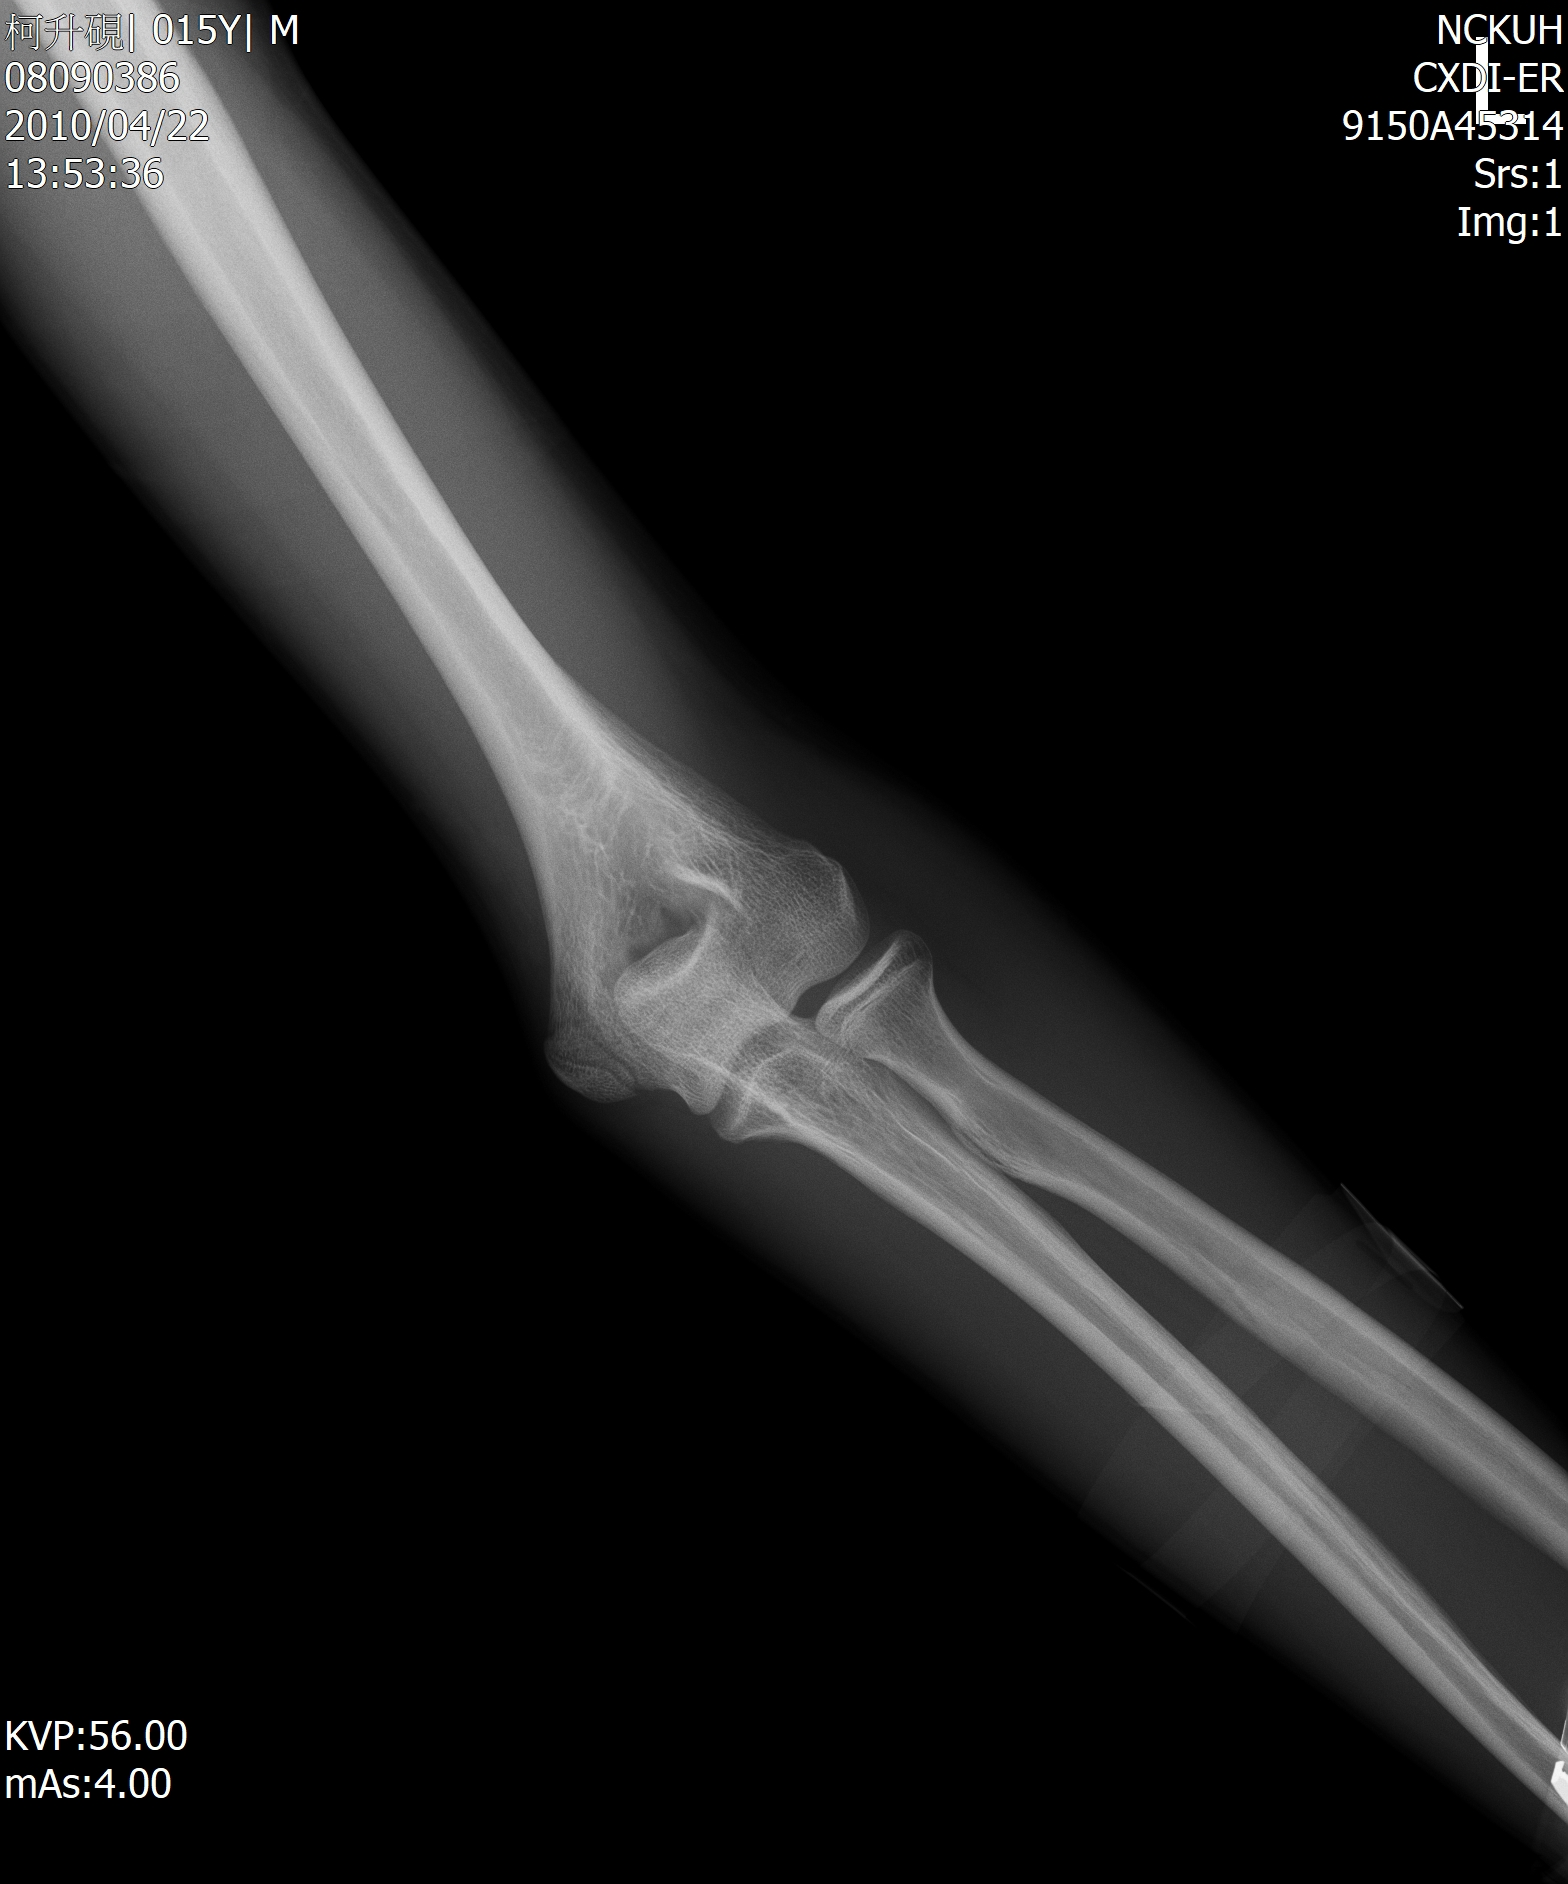Normal: (396, 682, 1086, 1393)
